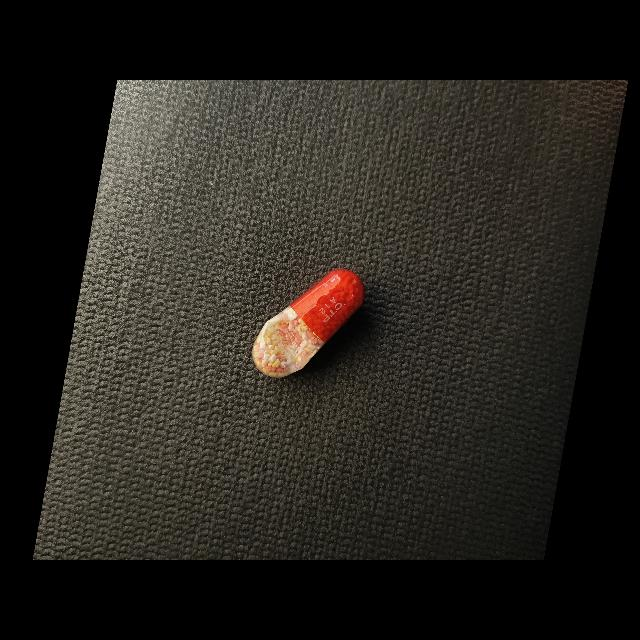Defective Capsule: (252, 269, 365, 378)
